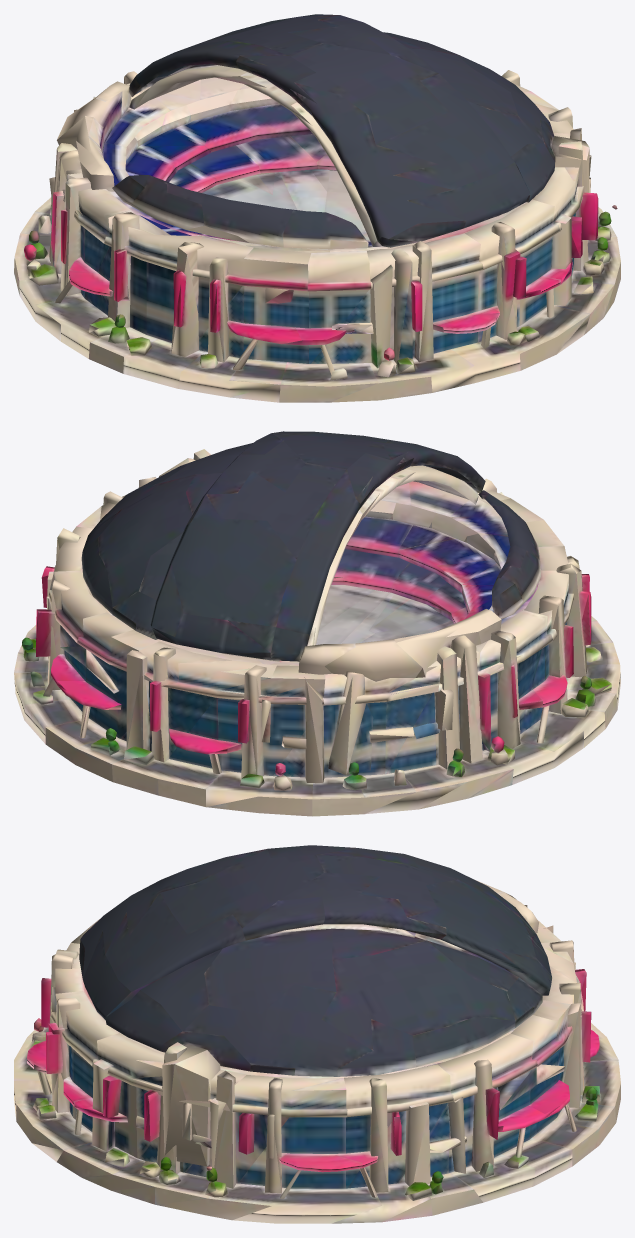
Rendered from rogers-centre.glb.
3 renders of one model, top to bottom at view 1: azimuth 30°, elevation 25°; view 2: azimuth 150°, elevation 25°; view 3: azimuth 270°, elevation 25°, orthographic.
Parts seen in each view (by area): view 1: Poplur shared grounded normalization; view 2: Poplur shared grounded normalization; view 3: Poplur shared grounded normalization.
Boxes of the visible parts, box(x1,y1,x2,y2) form: Poplur shared grounded normalization: box(14, 14, 620, 402); Poplur shared grounded normalization: box(14, 431, 620, 816); Poplur shared grounded normalization: box(14, 845, 620, 1223).
Bounding box in the file's own units: 2.42 × 1 × 2.42.
1 material, 1 textured.
